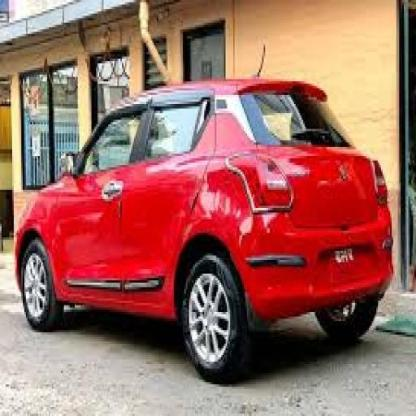car: (10, 67, 397, 387)
